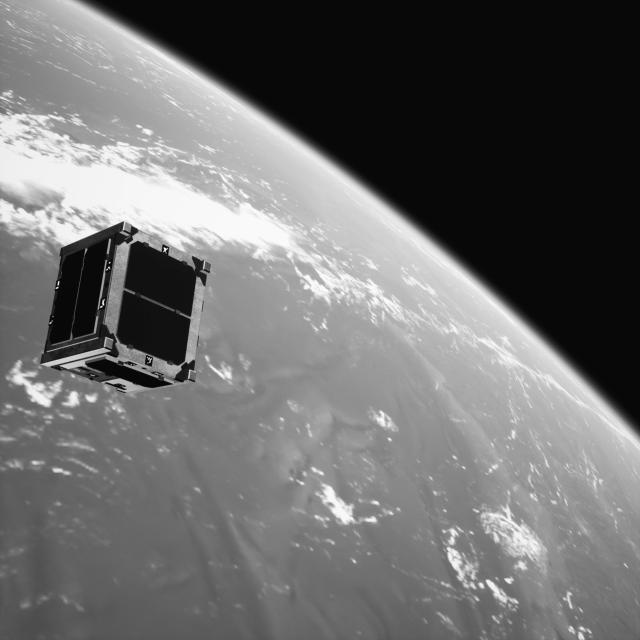satellite: (41, 219, 220, 400)
